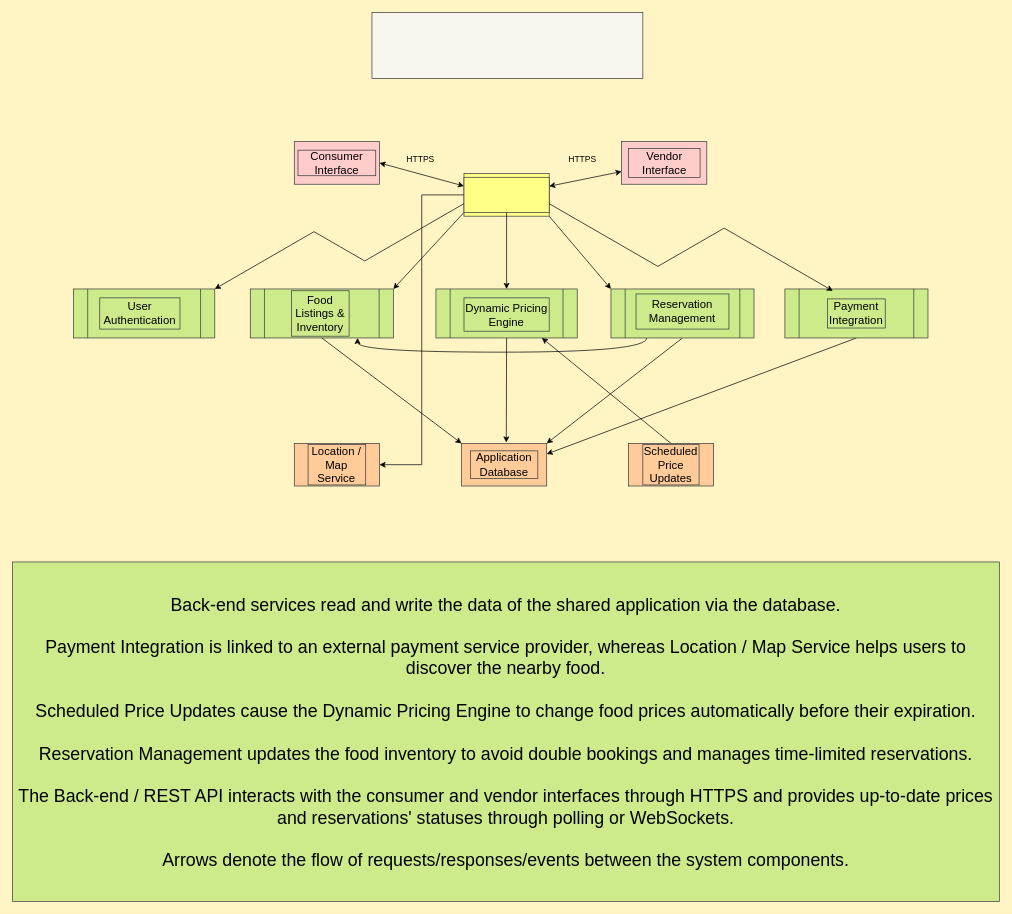
This 1012x914 diagram has some shape labels left out. The box of each missing label's shape, as (x1, y1, x2, y2) in pixels:
Backend / Rest API: (463, 177, 549, 212)
EchoEats System Architecture: (371, 12, 643, 78)
